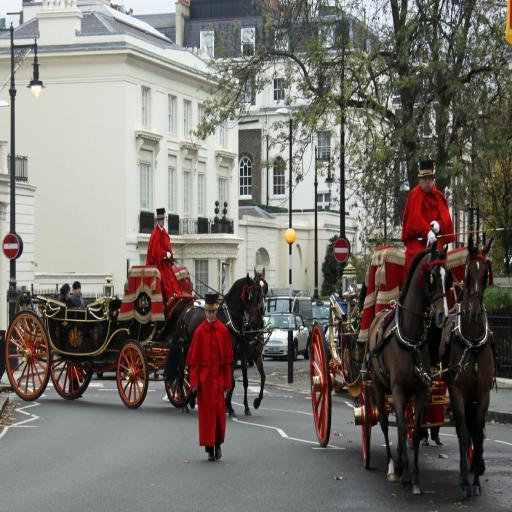horse: (367, 239, 449, 493), (445, 232, 497, 501), (163, 272, 260, 414), (240, 266, 268, 417)
